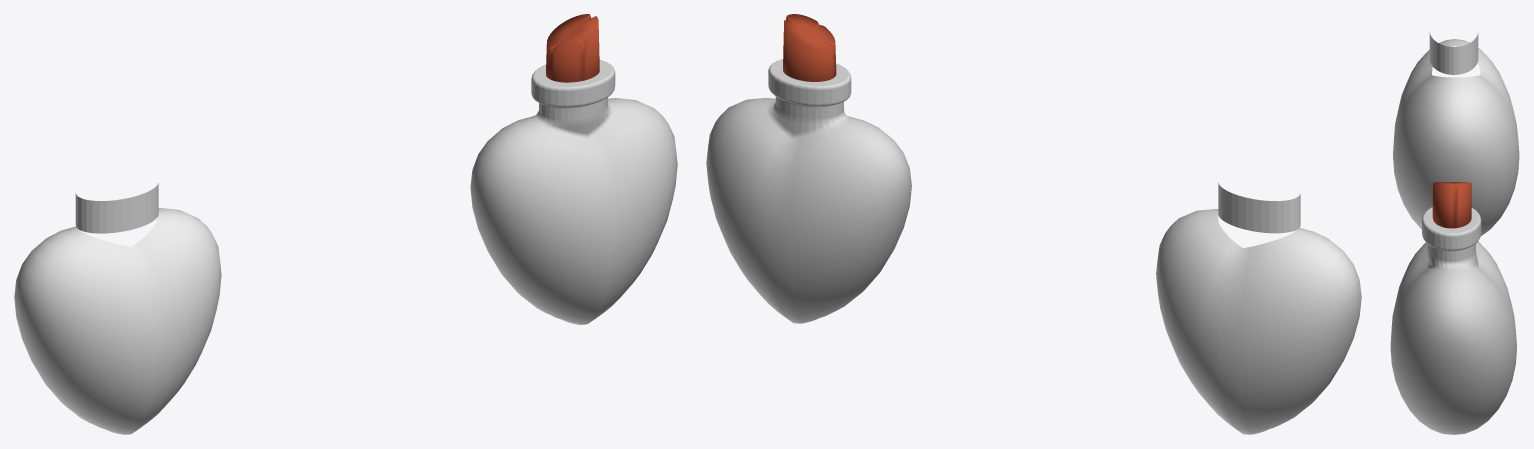
The model's file is Healing-Potion.glb.
3 renders of one model, left to right at view 1: azimuth 30°, elevation 25°; view 2: azimuth 150°, elevation 25°; view 3: azimuth 270°, elevation 25°, orthographic. The views are drawn at different scales.
Visible parts, largest first — view 1: Bottle, Sphere.001, Cylinder, Cylinder.001; view 2: Bottle, Sphere.001, Cylinder, Cylinder.001; view 3: Bottle, Sphere.001, Cylinder, Cylinder.001.
Part boxes in pixels (x1,y1,x2,y2): Bottle: (470,60,677,324); Sphere.001: (14,208,221,434); Cylinder: (546,14,599,82); Cylinder.001: (75,183,158,233); Bottle: (706,59,911,323); Sphere.001: (1156,209,1361,434); Cylinder: (783,14,836,81); Cylinder.001: (1218,183,1300,233); Bottle: (1390,207,1516,434); Sphere.001: (1393,39,1519,236); Cylinder: (1432,182,1471,228); Cylinder.001: (1429,32,1478,74).
Bounding box in the file's own units: 6.69 × 2.97 × 1.33.
